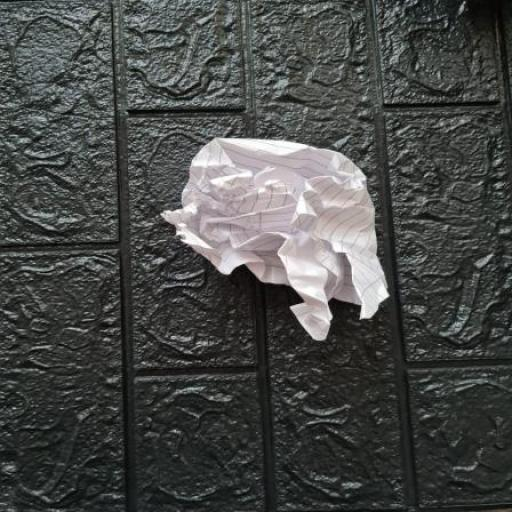paper: (144, 134, 400, 320)
